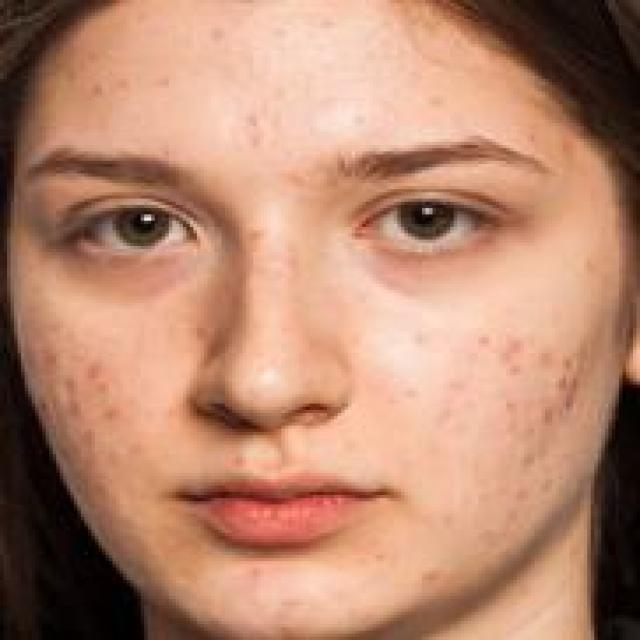blackheads: (556, 353, 584, 419), (496, 334, 524, 378), (471, 331, 489, 353), (419, 568, 443, 580)
